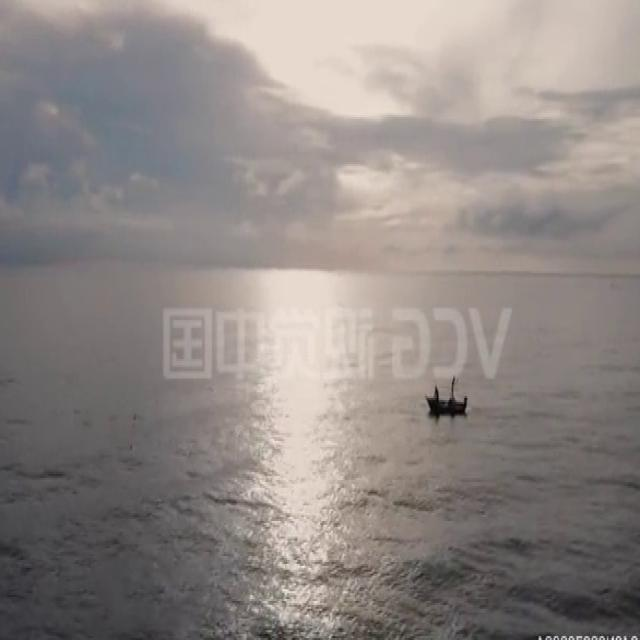fishing boat: (422, 369, 472, 415)
